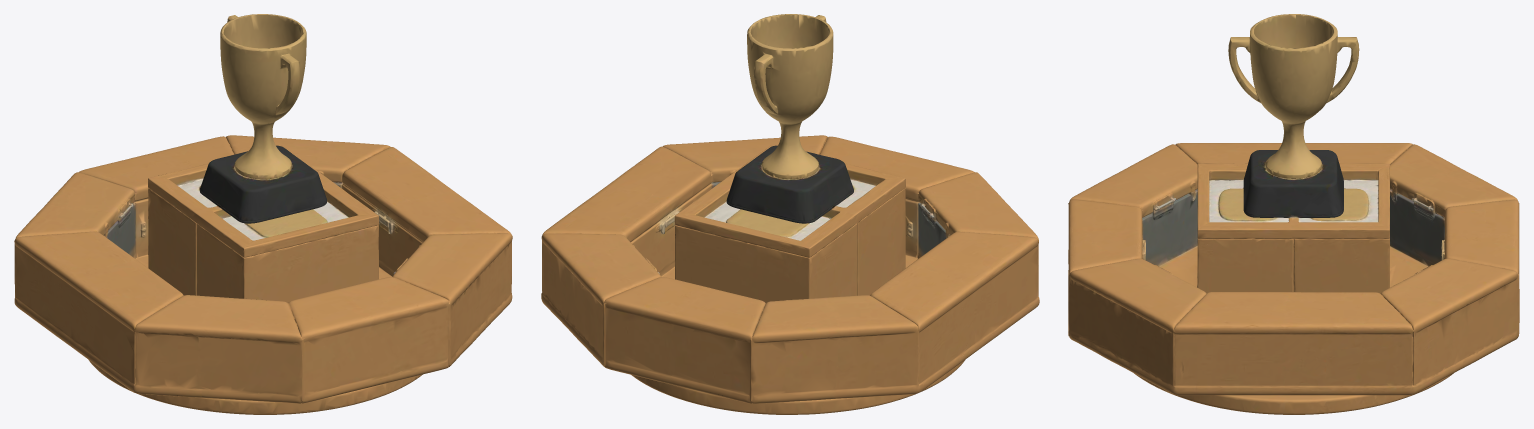
The model's file is tablero.glb.
3 renders of one model, left to right at view 1: azimuth 30°, elevation 25°; view 2: azimuth 150°, elevation 25°; view 3: azimuth 270°, elevation 25°, orthographic.
Visible parts, largest first — view 1: tripo_node_cb8dba22-5dff-4b8a-91c6-32464bfc5f46; view 2: tripo_node_cb8dba22-5dff-4b8a-91c6-32464bfc5f46; view 3: tripo_node_cb8dba22-5dff-4b8a-91c6-32464bfc5f46.
Boxes of the visible parts, box(x1,y1,x2,y2) form: tripo_node_cb8dba22-5dff-4b8a-91c6-32464bfc5f46: box(14, 14, 512, 414); tripo_node_cb8dba22-5dff-4b8a-91c6-32464bfc5f46: box(541, 14, 1039, 414); tripo_node_cb8dba22-5dff-4b8a-91c6-32464bfc5f46: box(1068, 14, 1519, 414).
Size of the model in its own units: 0.949 by 0.736 by 0.9795.
1 material, 1 textured.
